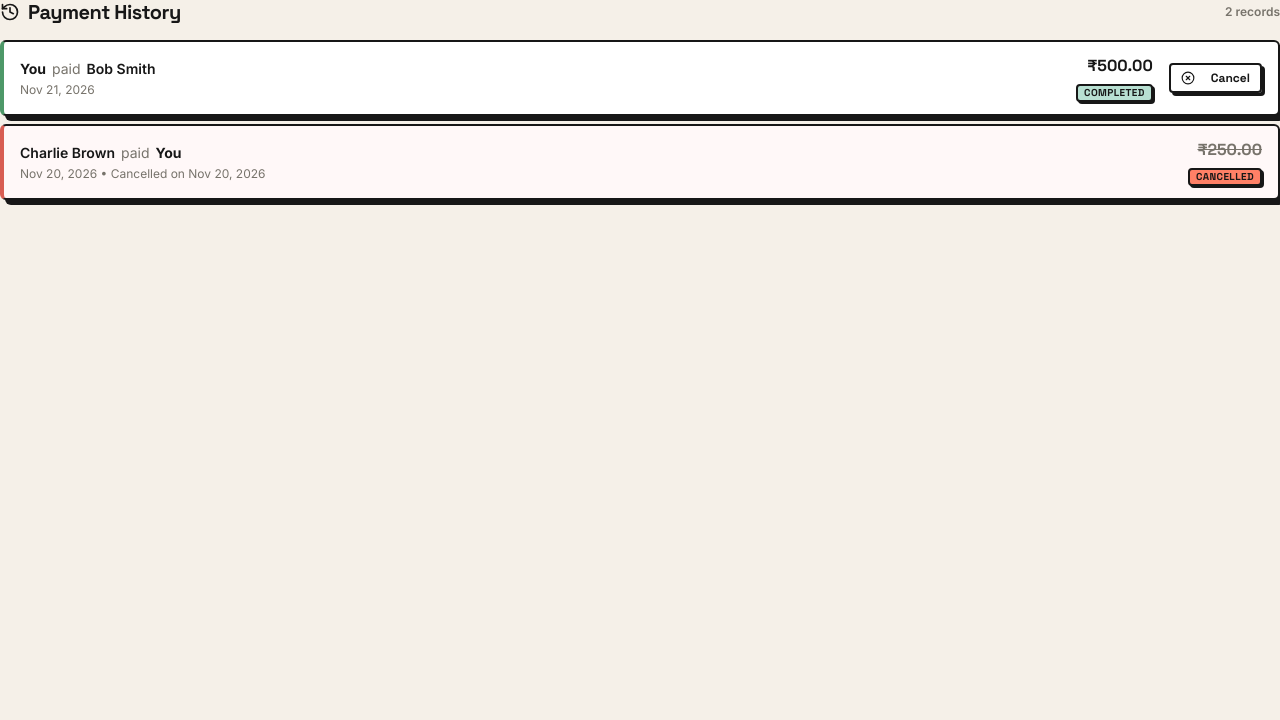
Settlement Components & Page › SettlementHistory Component › allows cancelling completed settlement where payer is current user with ConfirmDialog
Later steps or results of the test are not shown.
Click the button "Cancel".
click(1215, 78)  # box [1169,63,1262,93]
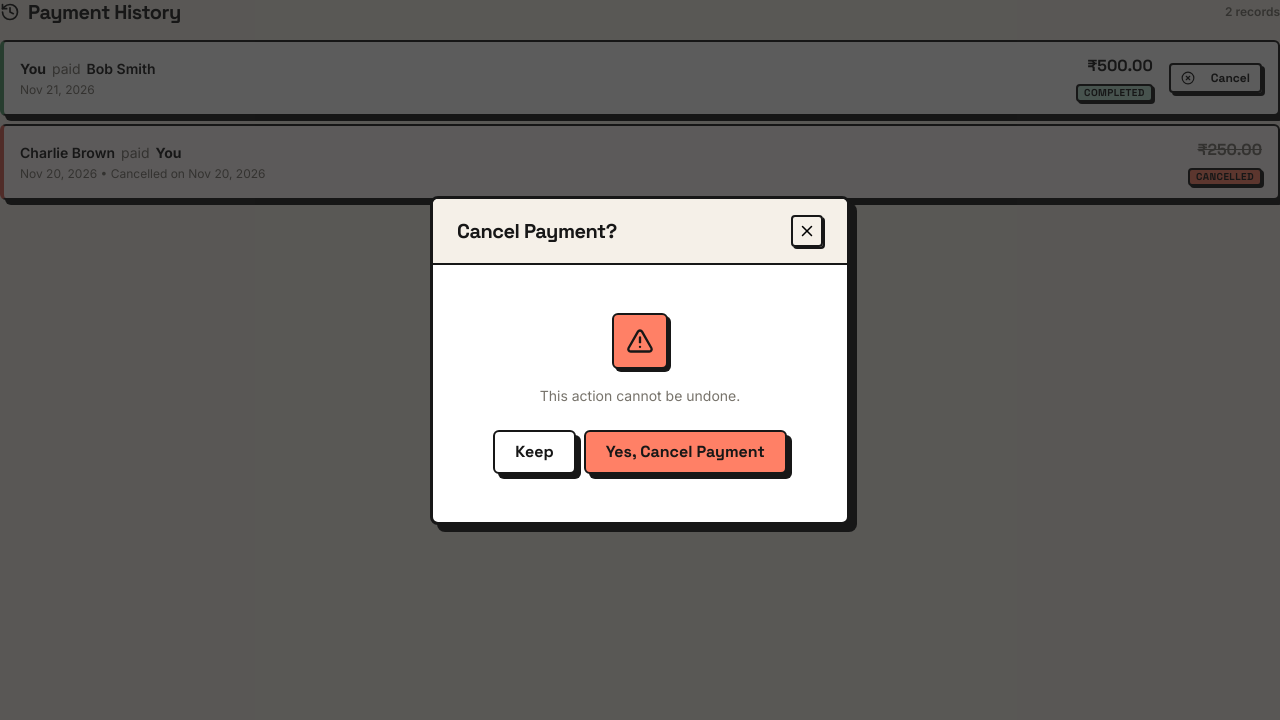
expect the heading "Cancel Payment?" is shown: met, box [457,218,617,242]
